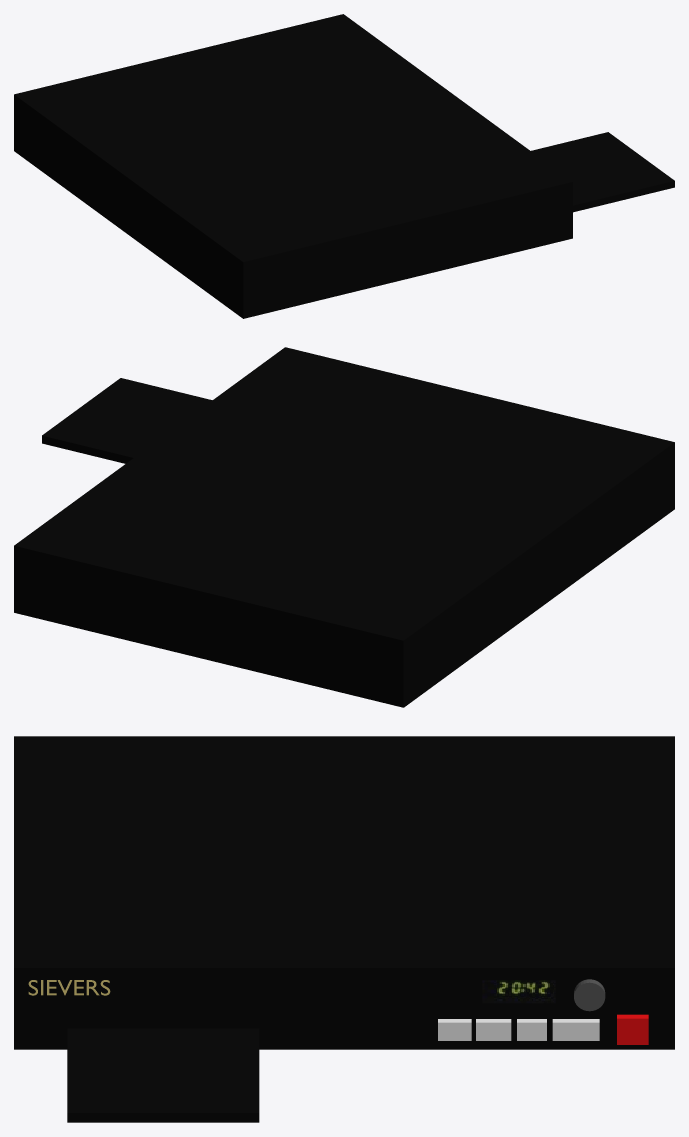
The model's file is DVD.fbx.
3 renders of one model, top to bottom at view 1: azimuth 30°, elevation 25°; view 2: azimuth 150°, elevation 25°; view 3: azimuth 270°, elevation 25°, orthographic. The views are drawn at different scales.
Visible parts, largest first — view 1: Cube, Cube.001; view 2: Cube, Cube.001; view 3: Cube, Cube.001, Plane, Cube.002, Cube.006, Cylinder, Cube.004, Cube.005, Cube.003, DVD.
Part boxes in pixels (box(x1,y1,x2,y2)): Cube: box(14, 14, 572, 318); Cube.001: box(531, 132, 674, 212); Cube: box(14, 347, 674, 707); Cube.001: box(42, 378, 212, 463); Cube: box(14, 736, 674, 1049); Cube.001: box(67, 1028, 259, 1122); Plane: box(482, 980, 555, 1003); Cube.002: box(552, 1019, 599, 1040); Cube.006: box(617, 1014, 648, 1044); Cylinder: box(574, 979, 605, 1011); Cube.004: box(476, 1019, 511, 1040); Cube.005: box(438, 1019, 471, 1040); Cube.003: box(517, 1019, 546, 1040); DVD: box(28, 980, 110, 995).
Bounding box in the file's own units: 87.26 × 10.5 × 77.01.
10 materials, 1 textured.
